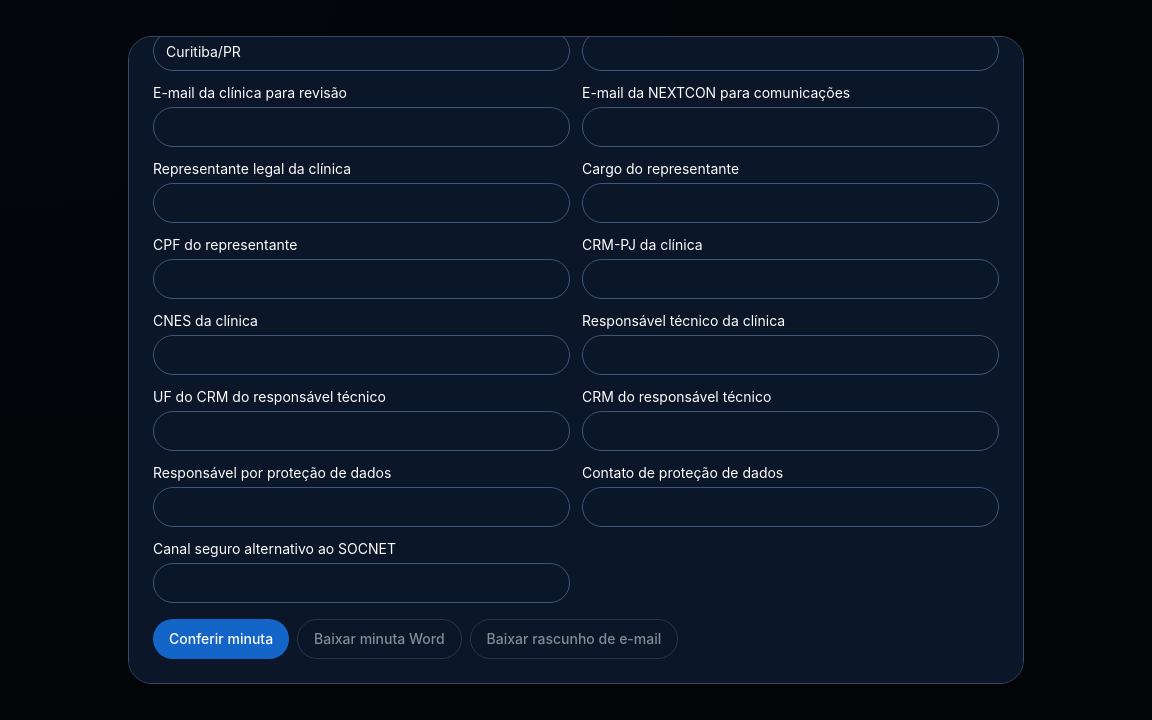
Test: preparo do contrato por clínica › preenche razão social, exige escolha de e-mail ambíguo e libera download após conferência
(page scrolled)
Expected: the button "Baixar minuta Word" is disabled, [297,619,462,659]
What coordinates should you click on to do the following:
click the button "Conferir minuta"
I would click on:
 (221, 639)
Its box is [153,619,289,659].
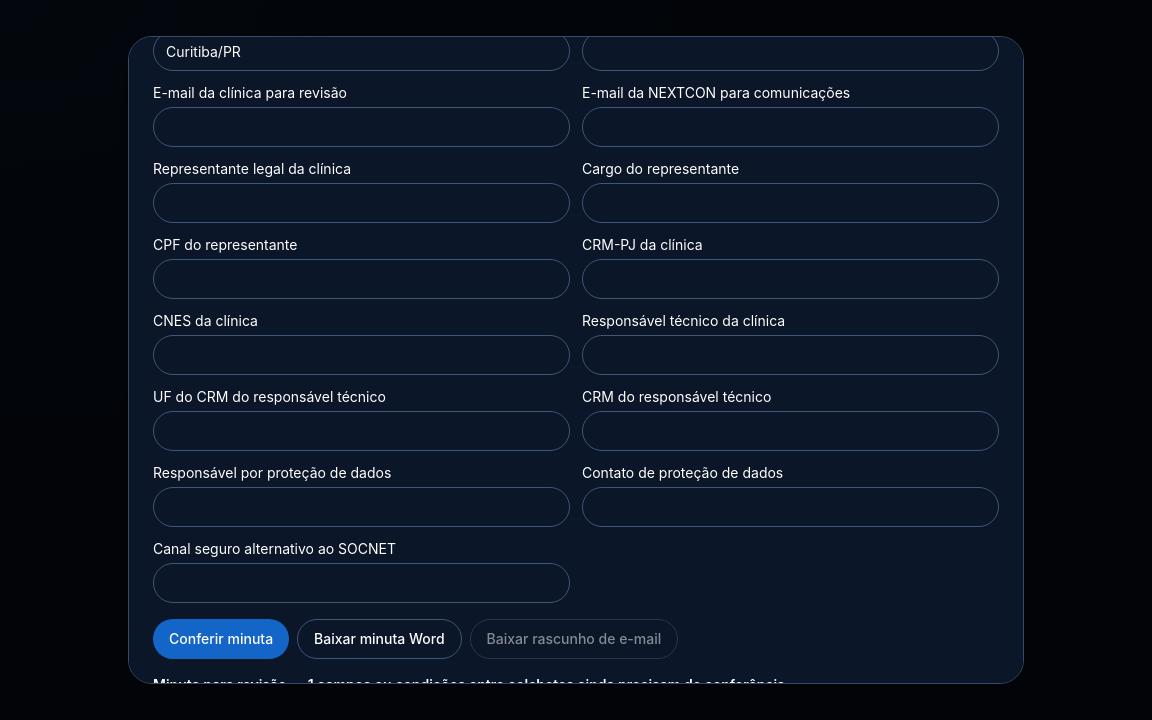
Expected: the button "Baixar rascunho de e-mail" is disabled, [470,619,678,659]
Now the button "Baixar minuta Word" is enabled, box [297,619,462,659]
